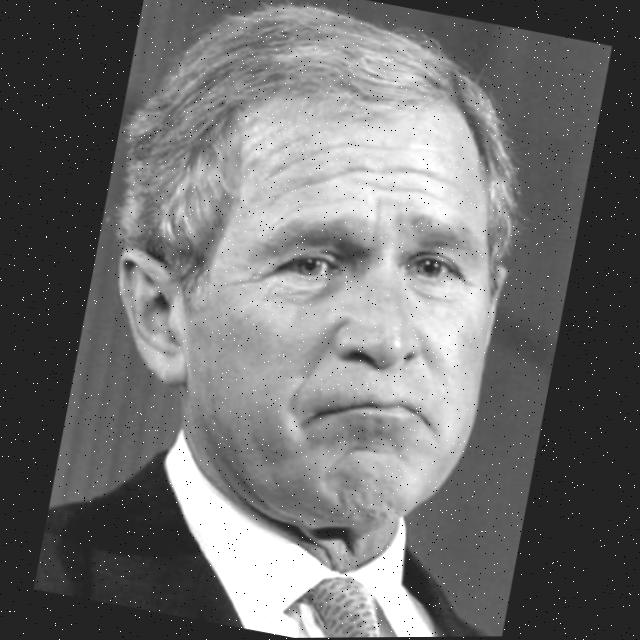face: (73, 0, 578, 566)
